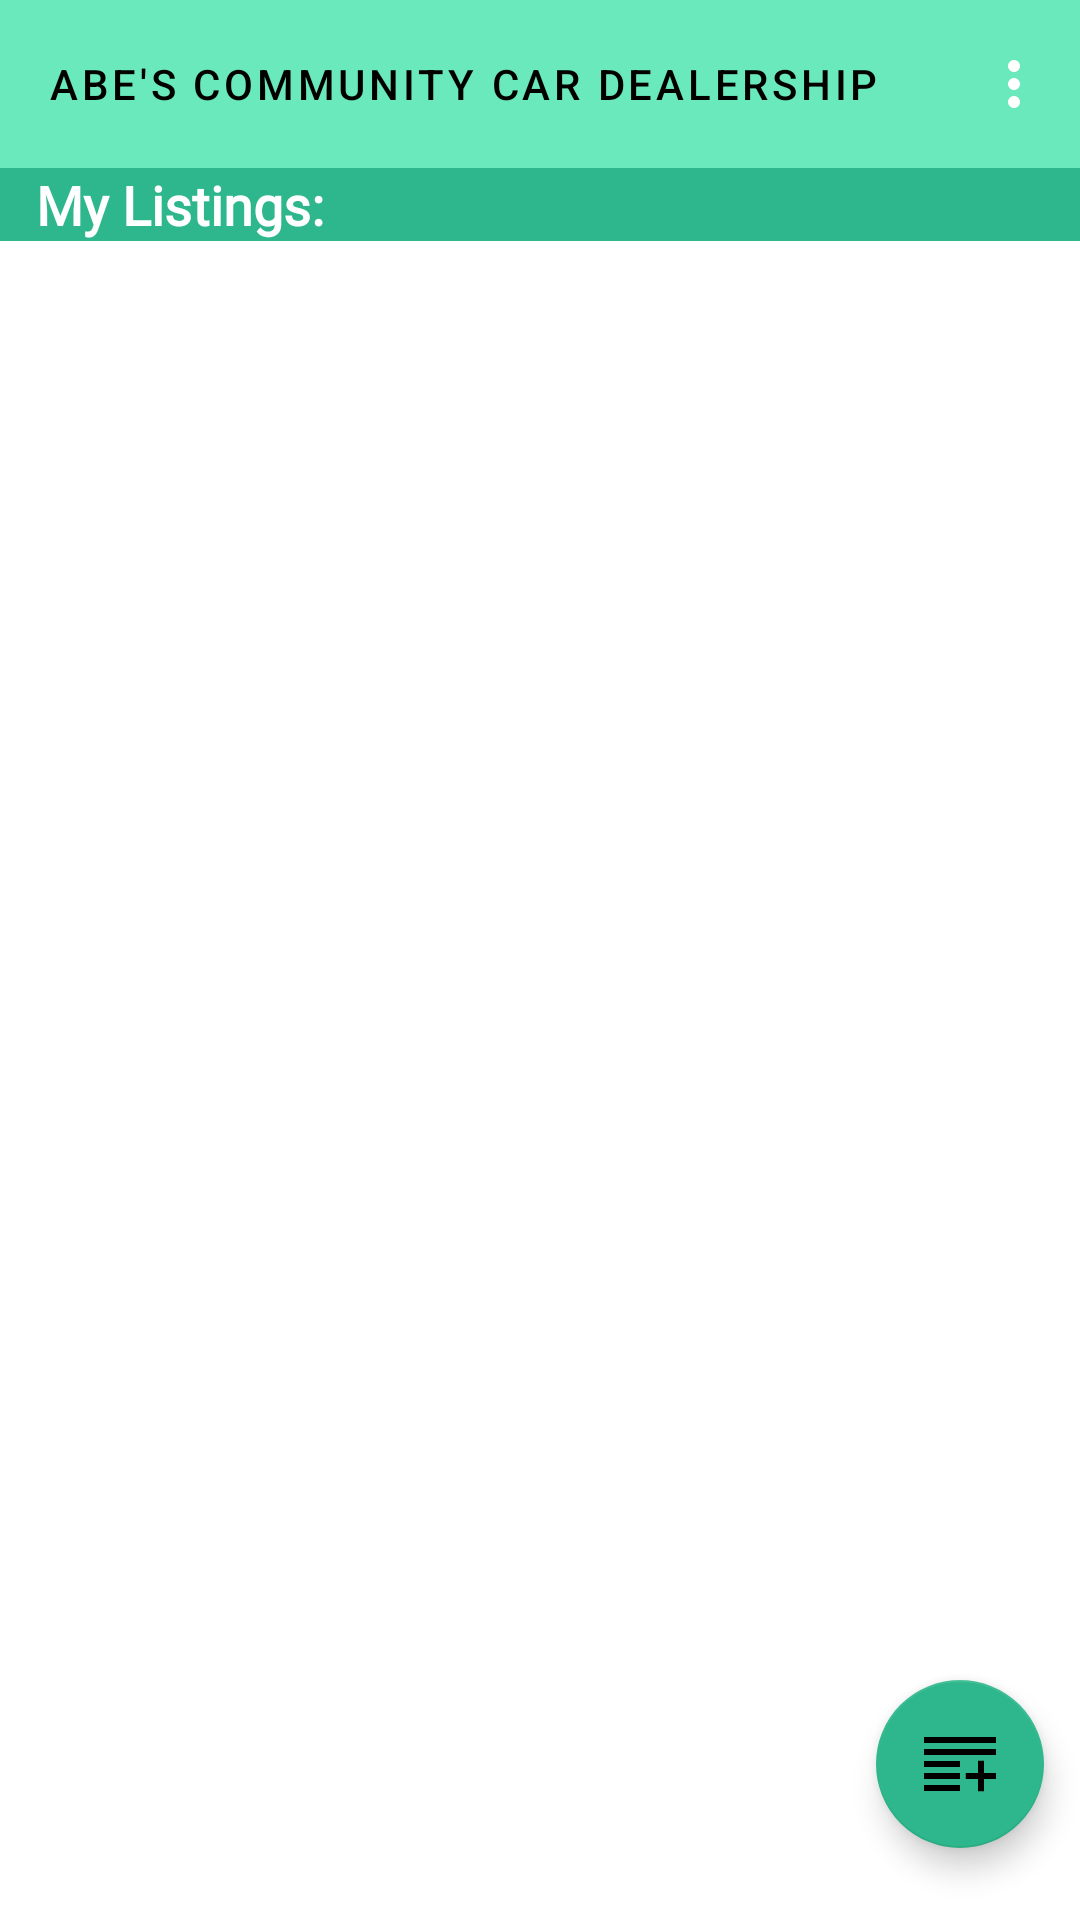

Screen size 1080px x 1920px. Icon name, then its center in pixels as [x,y]:
add listing: [960,1764]
